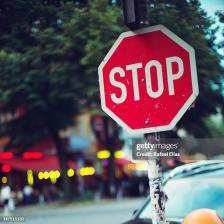Stop-sign: (92, 21, 205, 133)
